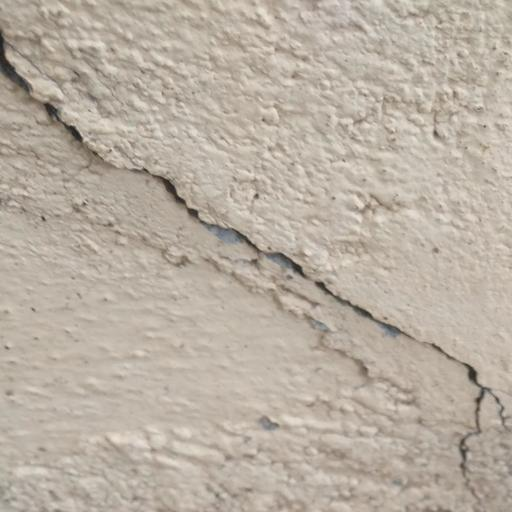minor_crack: (0, 42, 512, 496)
